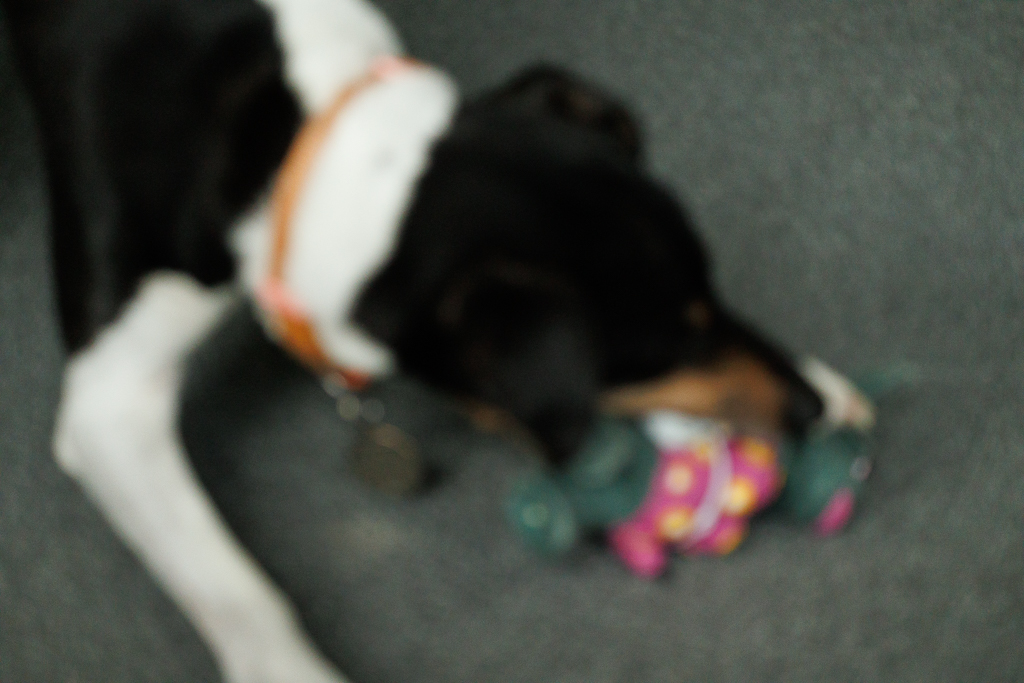Dog: (0, 0, 892, 683)
Humanoid: (471, 380, 886, 600)
